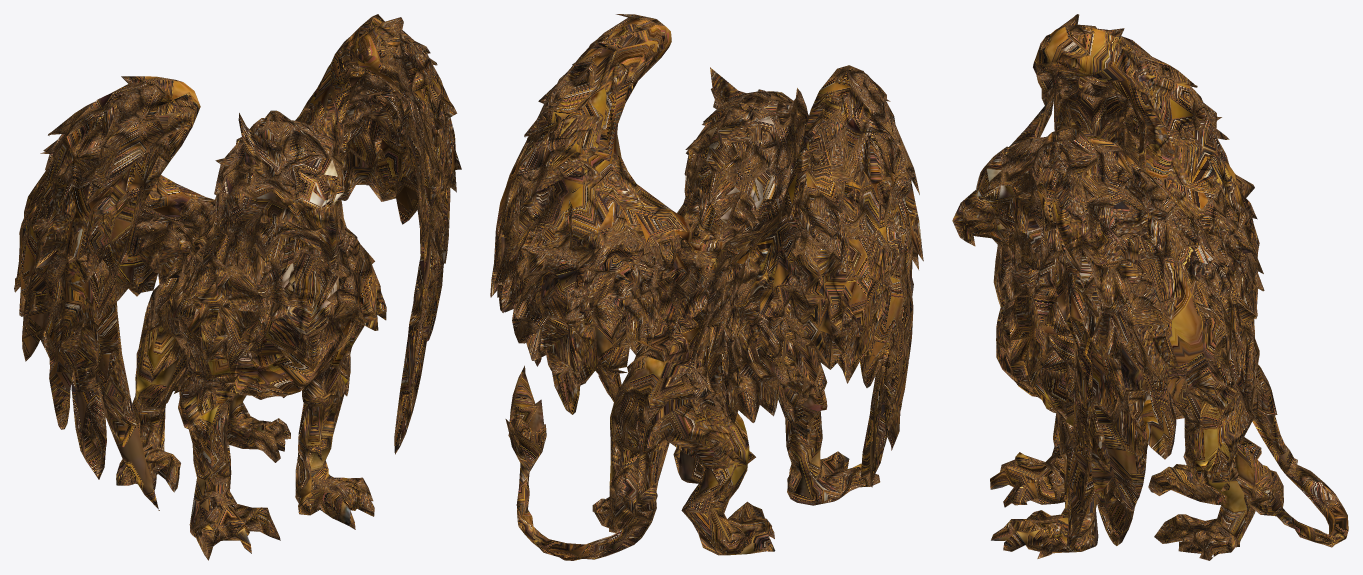
File: griffon.glb
3 views of the same model, side by side, from view 1: azimuth 30°, elevation 25°; view 2: azimuth 150°, elevation 25°; view 3: azimuth 270°, elevation 25° (orthographic). The views are drawn at different scales.
Bounding box in the file's own units: 1.78 × 1.89 × 1.52.
Materials: 1 (1 with a texture image).
